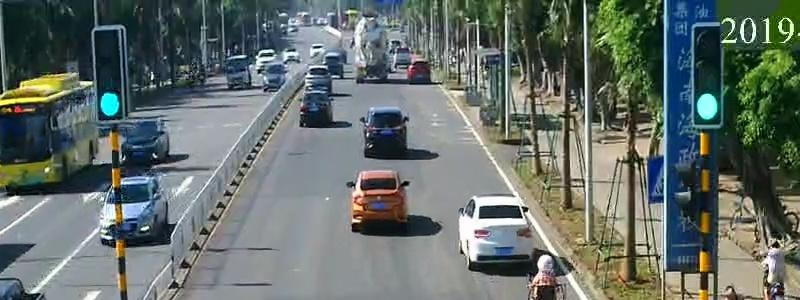green: (88, 81, 136, 132), (686, 87, 737, 130)
